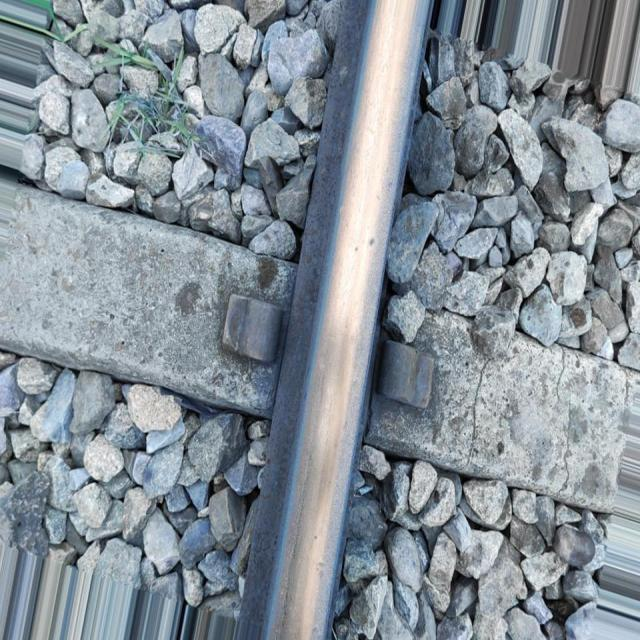Missing Fastener: (209, 283, 286, 384), (376, 327, 450, 432)
